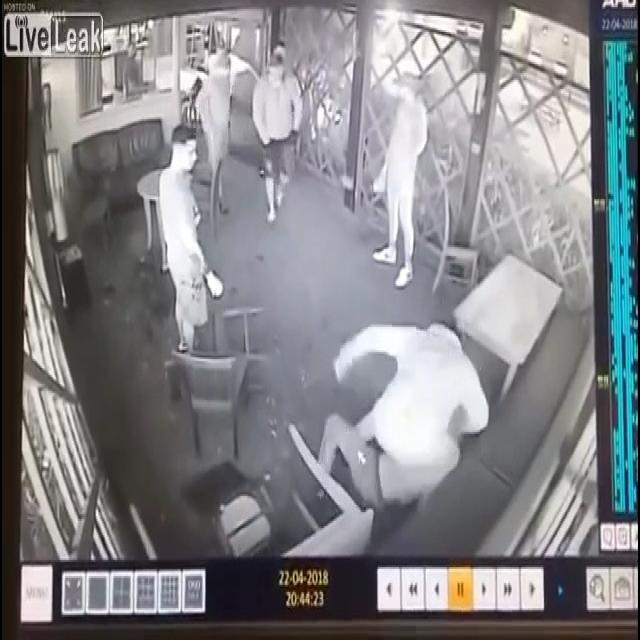fight: (319, 315, 489, 519)
